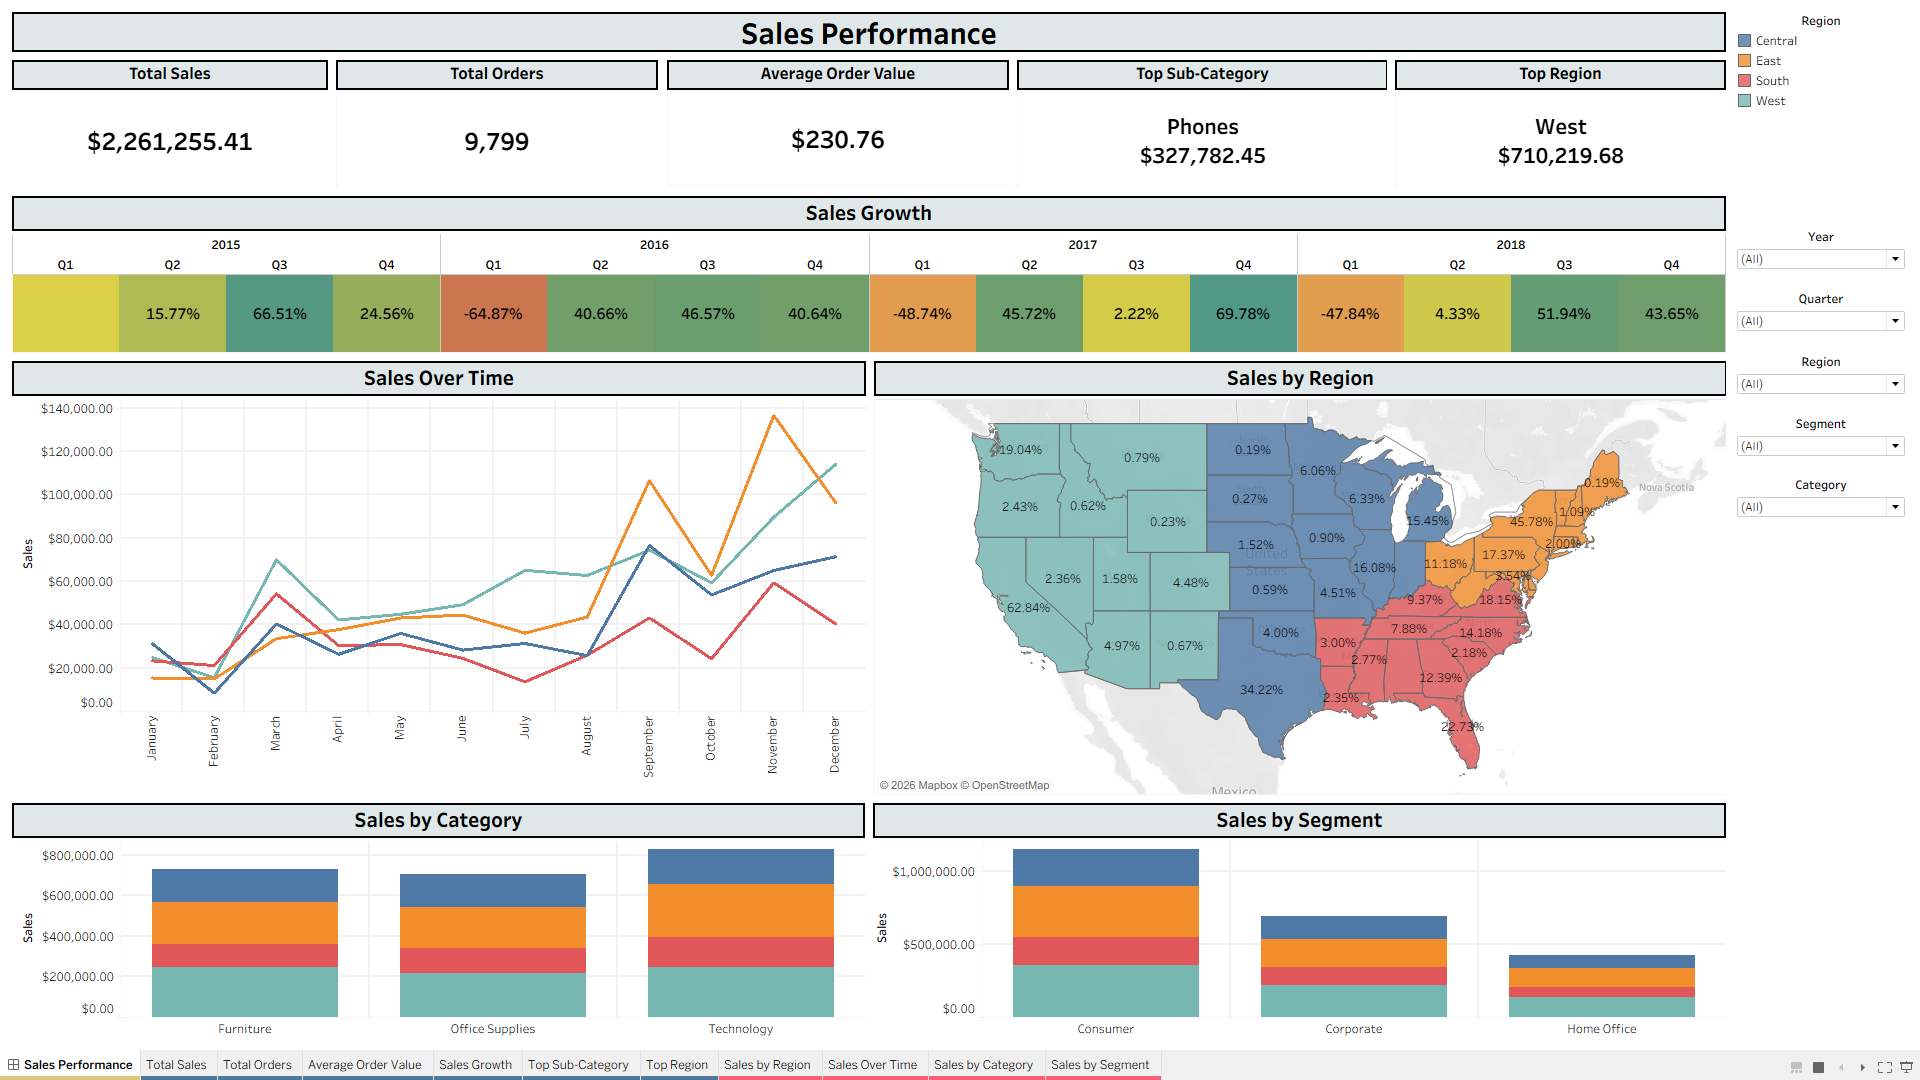

What the dashboard file says about the page in this screenshot:
{"tool":"tableau","page":{"name":"Sales Performance","canvas":[1000,1000],"units":"permille","ordinal":0},"visuals":[{"type":"title","box":[4.3,9.8,896.9,58.5]},{"type":"legend","title":"Sales by Region","param":"[federated.05i0j671lpl5bh1a86nyh1atq0u8].[none:Region:nk]","box":[901.1,9.8,94.6,205.2]},{"type":"worksheet","title":"Total Sales","mark":"Automatic","box":[4.3,68.3,169,127.6]},{"type":"worksheet","title":"Total Orders","mark":"Automatic","box":[173.2,68.3,172,127.6]},{"type":"worksheet","title":"Average Order Value","mark":"Automatic","box":[345.2,68.3,182.4,127.6]},{"type":"worksheet","title":"Top Sub-Category","mark":"Automatic","box":[527.6,68.3,197.2,127.6]},{"type":"worksheet","title":"Top Region","mark":"Automatic","box":[724.8,68.3,176.3,127.6]},{"type":"worksheet","title":"Sales Growth","mark":"Square","cols":["Order Date","Order Date"],"box":[4.3,195.9,896.9,154.1]},{"type":"filter","title":"Sales by Region","param":"[federated.05i0j671lpl5bh1a86nyh1atq0u8].[yr:Order Date:ok]","box":[901.1,214.9,94.6,59]},{"type":"filter","title":"Sales by Region","param":"[federated.05i0j671lpl5bh1a86nyh1atq0u8].[qr:Order Date:ok]","box":[901.1,273.9,94.6,59]},{"type":"filter","title":"Sales by Region","param":"[federated.05i0j671lpl5bh1a86nyh1atq0u8].[none:Region:nk]","box":[901.1,332.9,94.6,75.6]},{"type":"worksheet","title":"Sales Over Time","mark":"Automatic","rows":["Sales"],"cols":["Order Date"],"box":[4.3,350,448.8,413.3]},{"type":"worksheet","title":"Sales by Region","mark":"Multipolygon","box":[453.1,350,448,413.3]},{"type":"filter","title":"Sales by Region","param":"[federated.05i0j671lpl5bh1a86nyh1atq0u8].[none:Segment:nk]","box":[901.1,408.5,94.6,74.4]},{"type":"filter","title":"Sales by Region","param":"[federated.05i0j671lpl5bh1a86nyh1atq0u8].[none:Category:nk]","box":[901.1,482.9,94.6,76.8]},{"type":"blank","box":[901.1,559.8,94.6,430.5]},{"type":"worksheet","title":"Sales by Category","mark":"Automatic","rows":["Sales"],"cols":["Category"],"box":[4.3,763.3,448.3,227]},{"type":"worksheet","title":"Sales by Segment","mark":"Automatic","rows":["Sales"],"cols":["Segment"],"box":[452.6,763.3,448.5,227]}]}

Visuals, with their boxes on the dashboard's canvas, which has no fixed pixel size, in thousandths of its width and height (x1, y1, x2, y2). These are canvas units, not pixel positions in the 1920x1080 screenshot, which may show the page scaled, cropped or inside an application window:
title: (left=4, top=10, right=901, bottom=68)
"Sales by Region" legend: (left=901, top=10, right=996, bottom=215)
"Total Sales" worksheet: (left=4, top=68, right=173, bottom=196)
"Total Orders" worksheet: (left=173, top=68, right=345, bottom=196)
"Average Order Value" worksheet: (left=345, top=68, right=528, bottom=196)
"Top Sub-Category" worksheet: (left=528, top=68, right=725, bottom=196)
"Top Region" worksheet: (left=725, top=68, right=901, bottom=196)
"Sales Growth" worksheet (Square marks): (left=4, top=196, right=901, bottom=350)
"Sales by Region" filter: (left=901, top=215, right=996, bottom=274)
"Sales by Region" filter: (left=901, top=274, right=996, bottom=333)
"Sales by Region" filter: (left=901, top=333, right=996, bottom=408)
"Sales Over Time" worksheet: (left=4, top=350, right=453, bottom=763)
"Sales by Region" worksheet (Multipolygon marks): (left=453, top=350, right=901, bottom=763)
"Sales by Region" filter: (left=901, top=408, right=996, bottom=483)
"Sales by Region" filter: (left=901, top=483, right=996, bottom=560)
blank: (left=901, top=560, right=996, bottom=990)
"Sales by Category" worksheet: (left=4, top=763, right=453, bottom=990)
"Sales by Segment" worksheet: (left=453, top=763, right=901, bottom=990)
